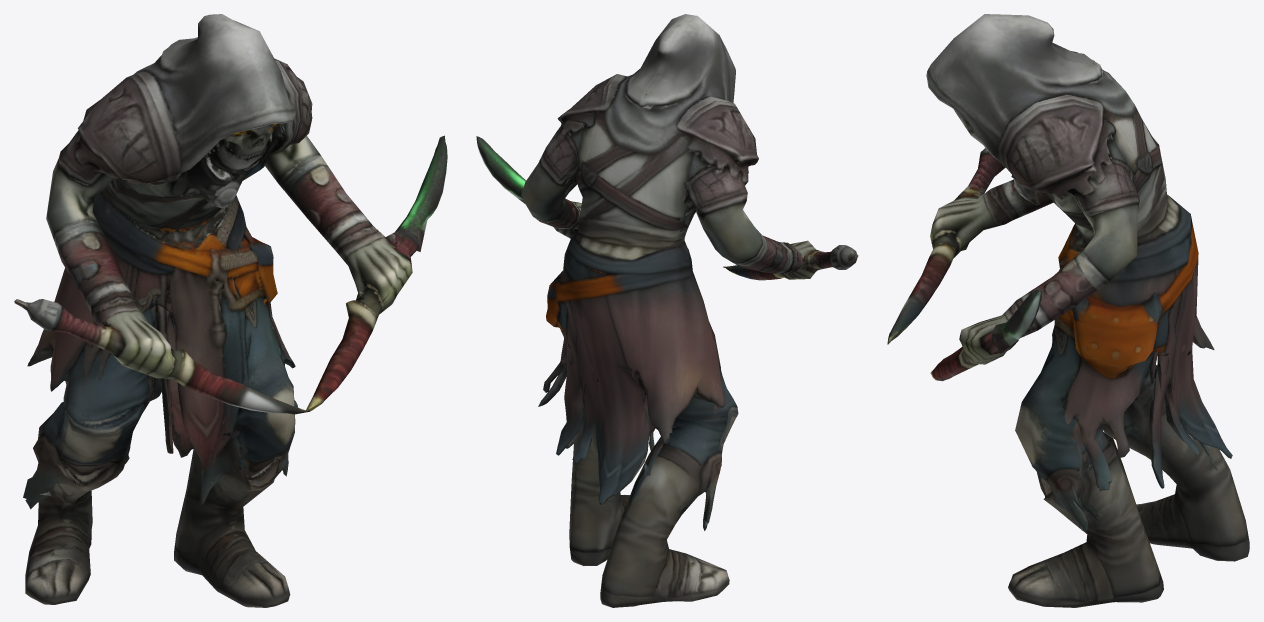
The model's file is Rogue - LOW.glb.
3 views of the same model, side by side, from view 1: azimuth 30°, elevation 25°; view 2: azimuth 150°, elevation 25°; view 3: azimuth 270°, elevation 25° (orthographic). The views are drawn at different scales.
Parts seen in each view (by area): view 1: Mesh0; view 2: Mesh0; view 3: Mesh0.
Part boxes in pixels (x1,y1,x2,y2): Mesh0: (14, 14, 447, 607); Mesh0: (476, 14, 858, 607); Mesh0: (887, 14, 1249, 607).
Size of the model in its own units: 1.53 by 1.99 by 1.16.
1 material, 1 textured.
